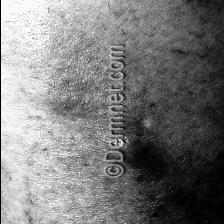Non-Cancerous Skin Condition: (122, 140, 168, 182)
